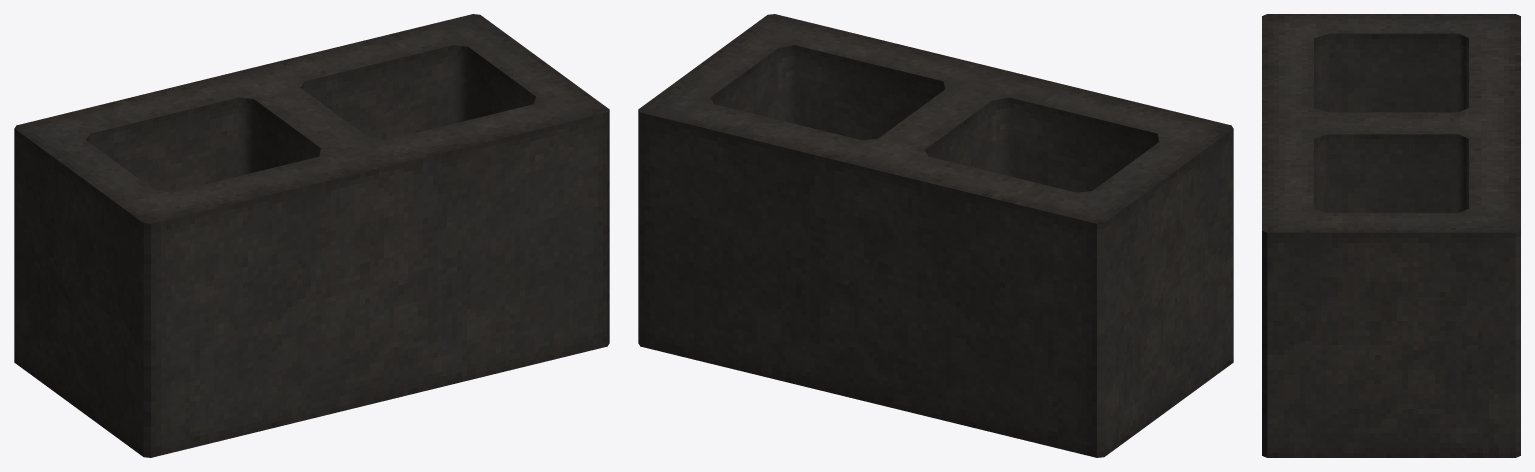
Rendered from ConcreteBlock1.glb.
The picture shows the model from 3 angles, left to right: view 1: azimuth 30°, elevation 25°; view 2: azimuth 150°, elevation 25°; view 3: azimuth 270°, elevation 25°; orthographic projection. The views are drawn at different scales.
Visible parts, largest first — view 1: concrete_block_1; view 2: concrete_block_1; view 3: concrete_block_1.
Part boxes in pixels (x1=…): concrete_block_1: x1=14, y1=14, x2=609, y2=457; concrete_block_1: x1=638, y1=14, x2=1233, y2=457; concrete_block_1: x1=1262, y1=14, x2=1520, y2=457.
Bounding box in the file's own units: 0.432 × 0.2074 × 0.216.
Materials: 1 (1 with a texture image).
